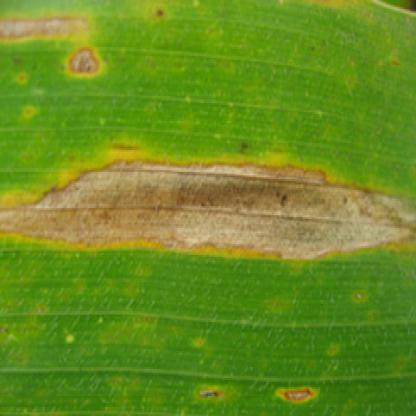Corn Gray leaf spot: (3, 18, 414, 347)
